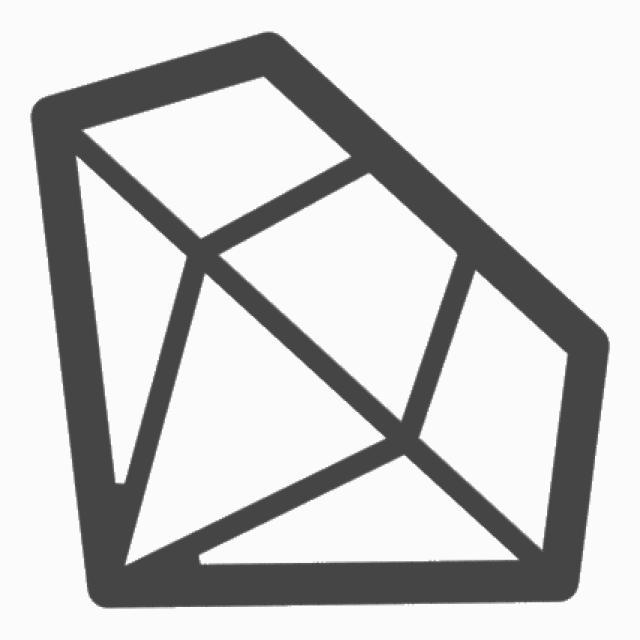diamond: (22, 16, 623, 618)
